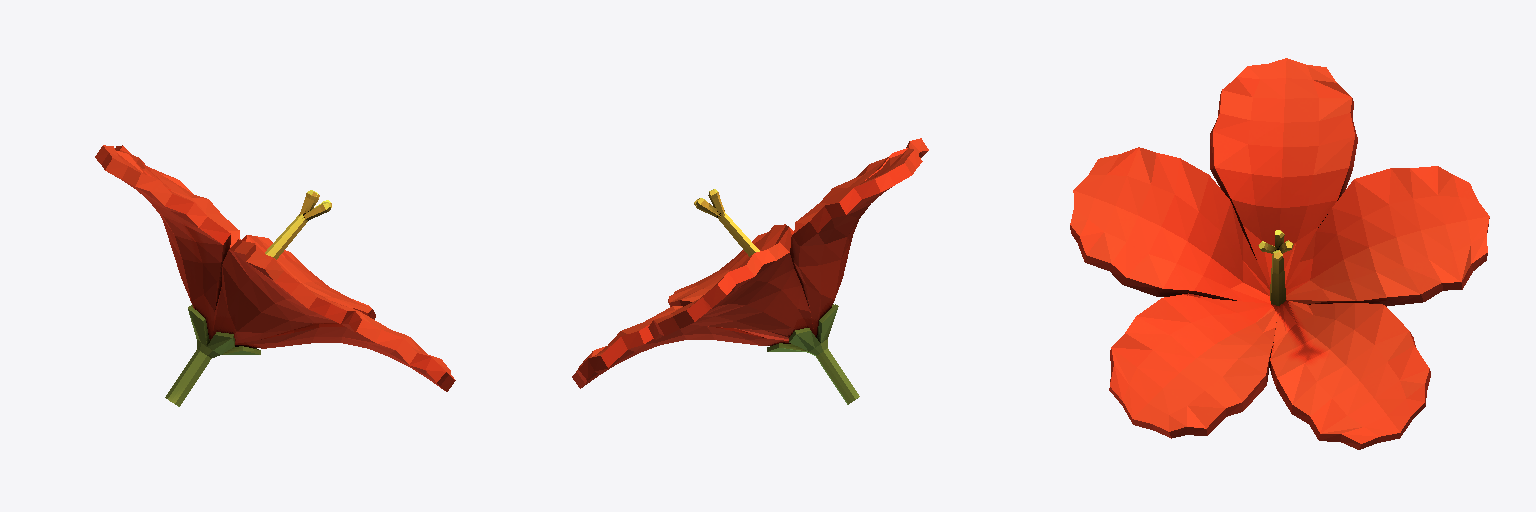
The picture shows the model from 3 angles: view 1: azimuth 30°, elevation 25°; view 2: azimuth 150°, elevation 25°; view 3: azimuth 270°, elevation 25°; orthographic projection.
Visible parts, largest first — view 1: hibiscus_flower; view 2: hibiscus_flower; view 3: hibiscus_flower.
Boxes of the visible parts, x1,y1,x2,y2 form: hibiscus_flower: [95, 145, 455, 406]; hibiscus_flower: [572, 138, 928, 404]; hibiscus_flower: [1070, 58, 1489, 449].
Bounding box in the file's own units: 1.39 × 1.17 × 1.71.
3 materials, 1 textured.